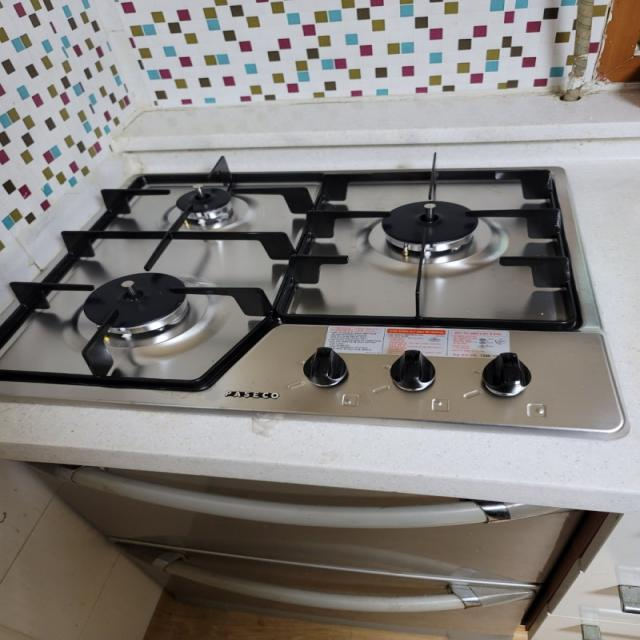knob_ON: (60, 153, 550, 382)
